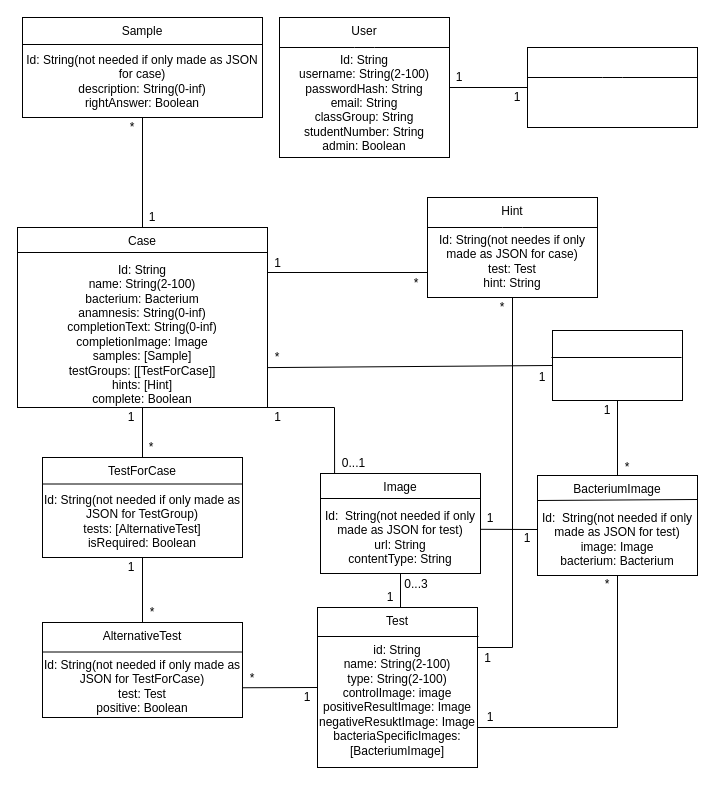
The diagram is 716 pixels wide and 785 high, and some of its shapes have lost their labels. Each missing label, with the centre of its shape:
Bacterium Id: String name: String(2-100): (x=617, y=365)
Credit Id: String user: User testCases: [String]: (x=612, y=87)
